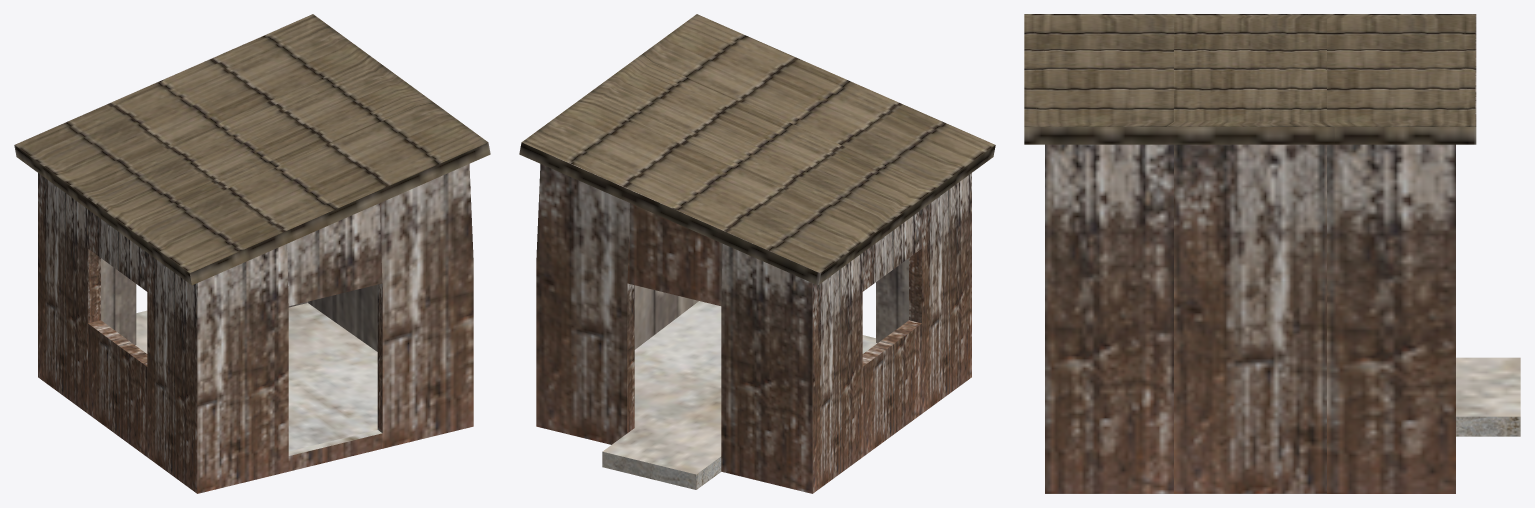
Rendered from des_shack.fbx.
3 renders of one model, left to right at view 1: azimuth 30°, elevation 25°; view 2: azimuth 150°, elevation 25°; view 3: azimuth 270°, elevation 25°, orthographic. The views are drawn at different scales.
Parts seen in each view (by area): view 1: shack; view 2: shack; view 3: shack.
Boxes of the visible parts, <box> form: shack: <box>14,14,490,493</box>; shack: <box>519,14,995,493</box>; shack: <box>1024,14,1520,493</box>.
Bounding box in the file's own units: 508 × 465 × 563.
1 material, 1 textured.
